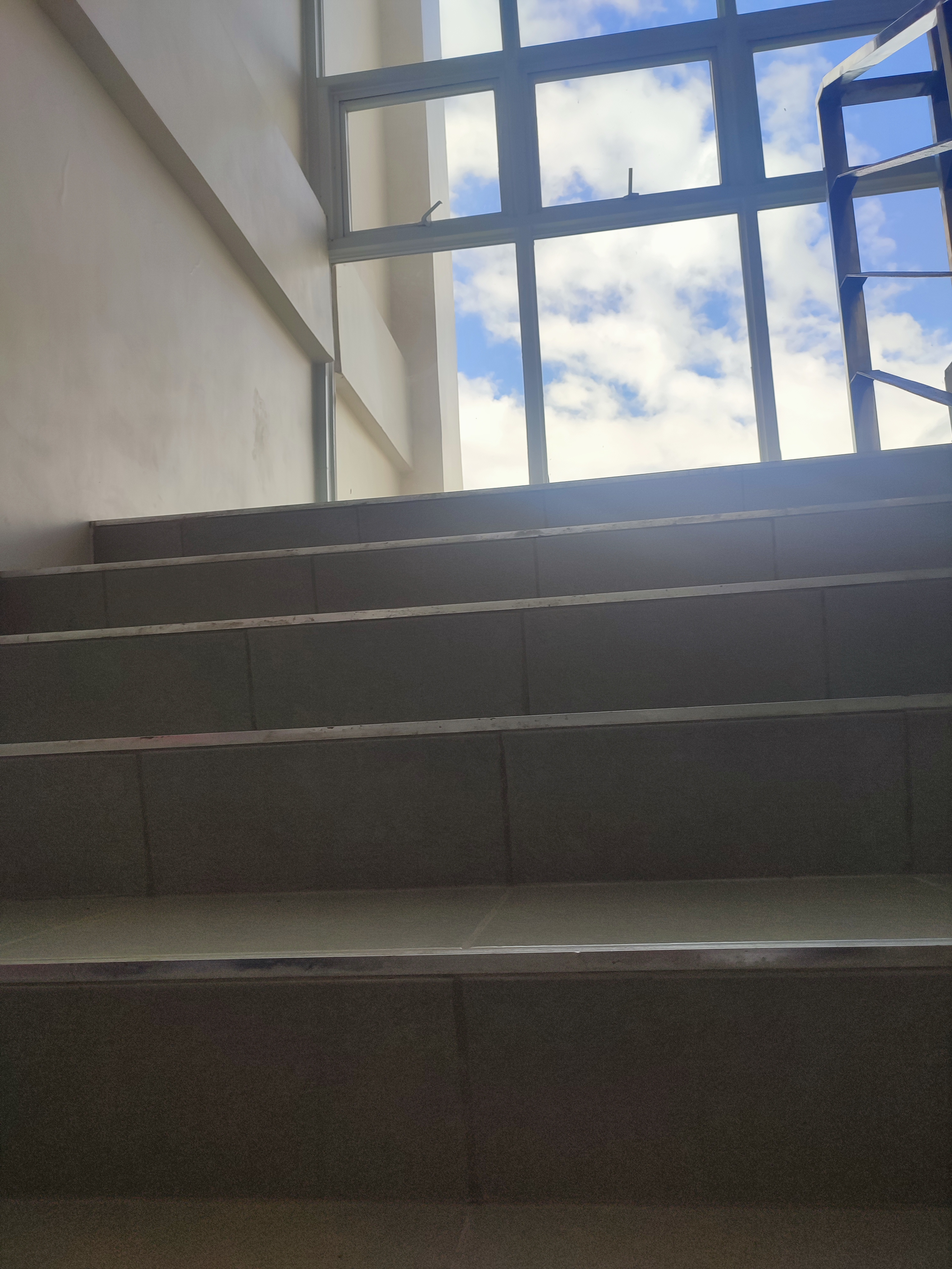Staircase: (0, 443, 952, 1212)
